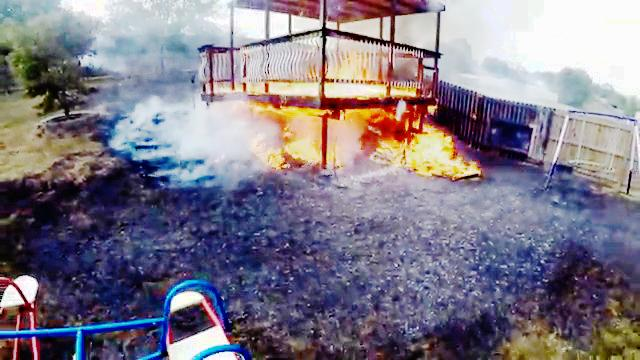fire: (414, 126, 460, 178), (281, 132, 322, 170)
smoke: (139, 102, 241, 162)
